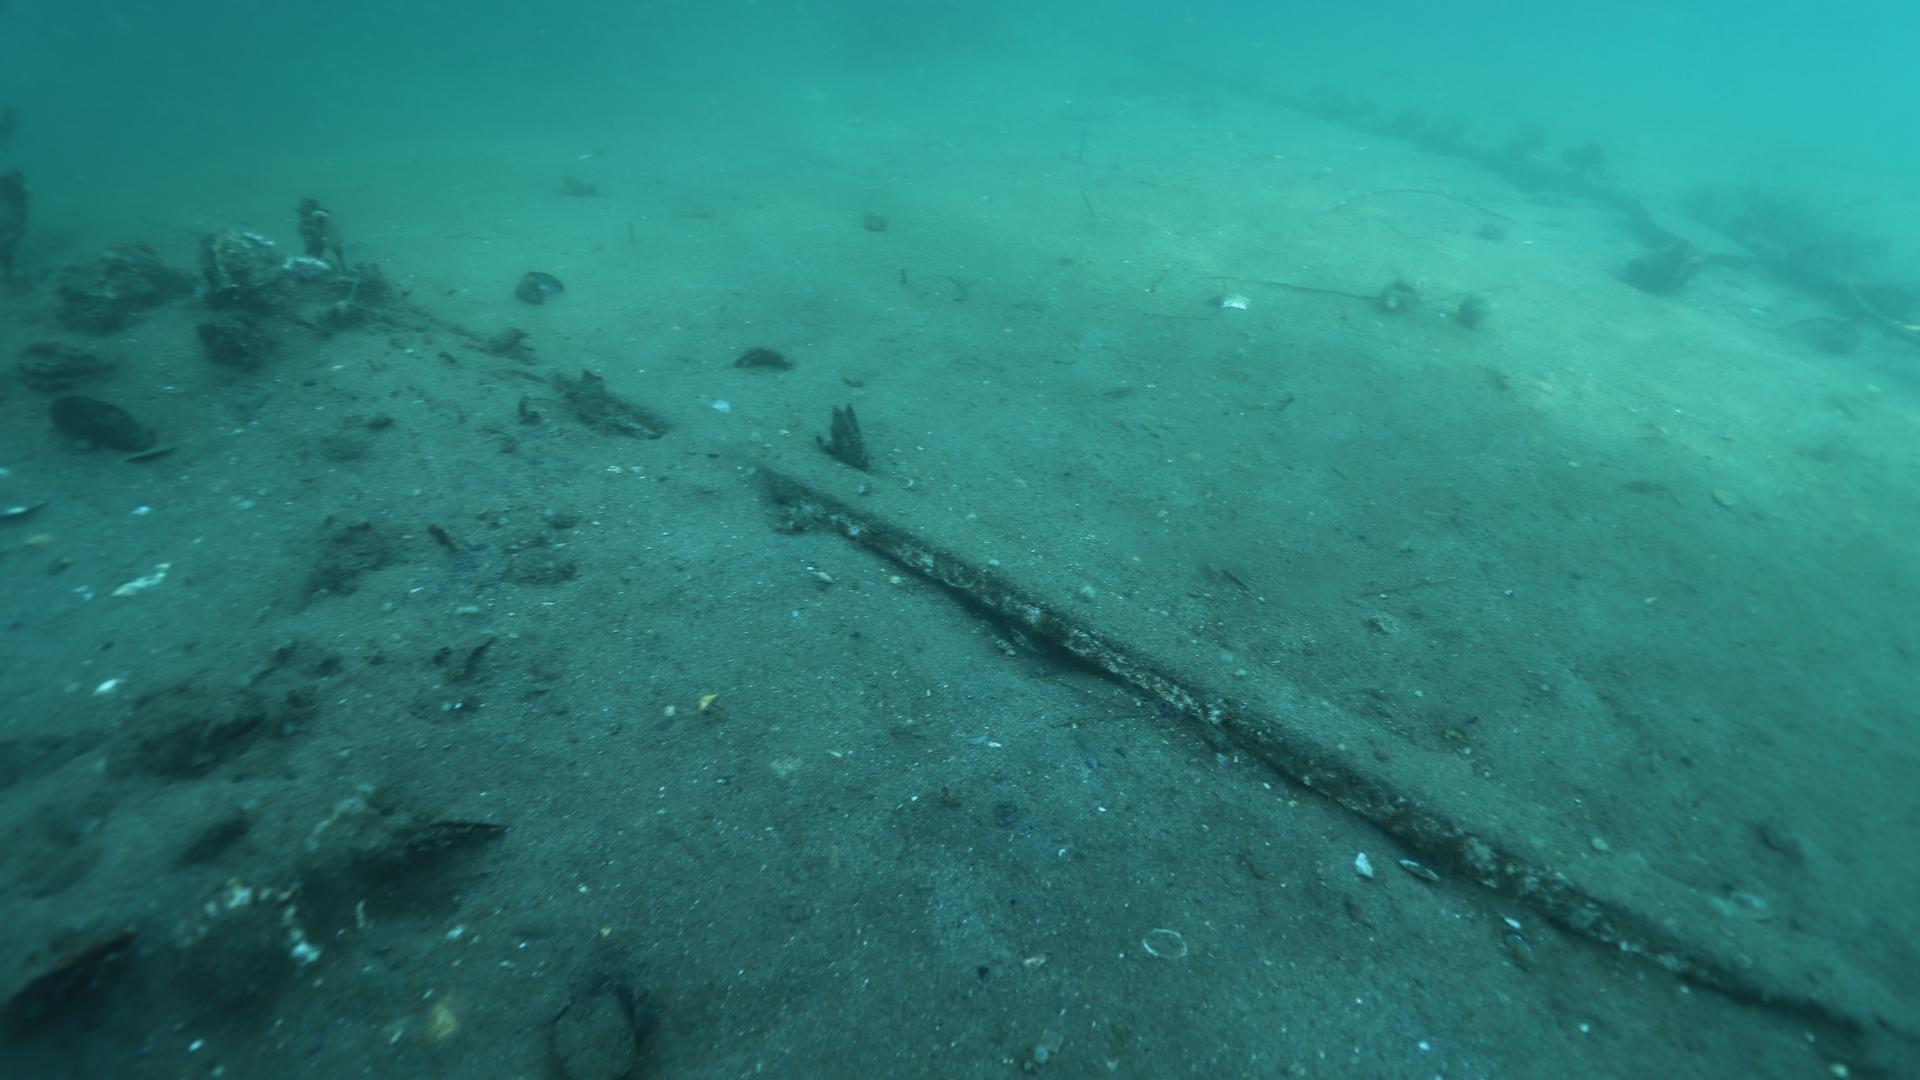wood: (764, 448, 1920, 1080)
